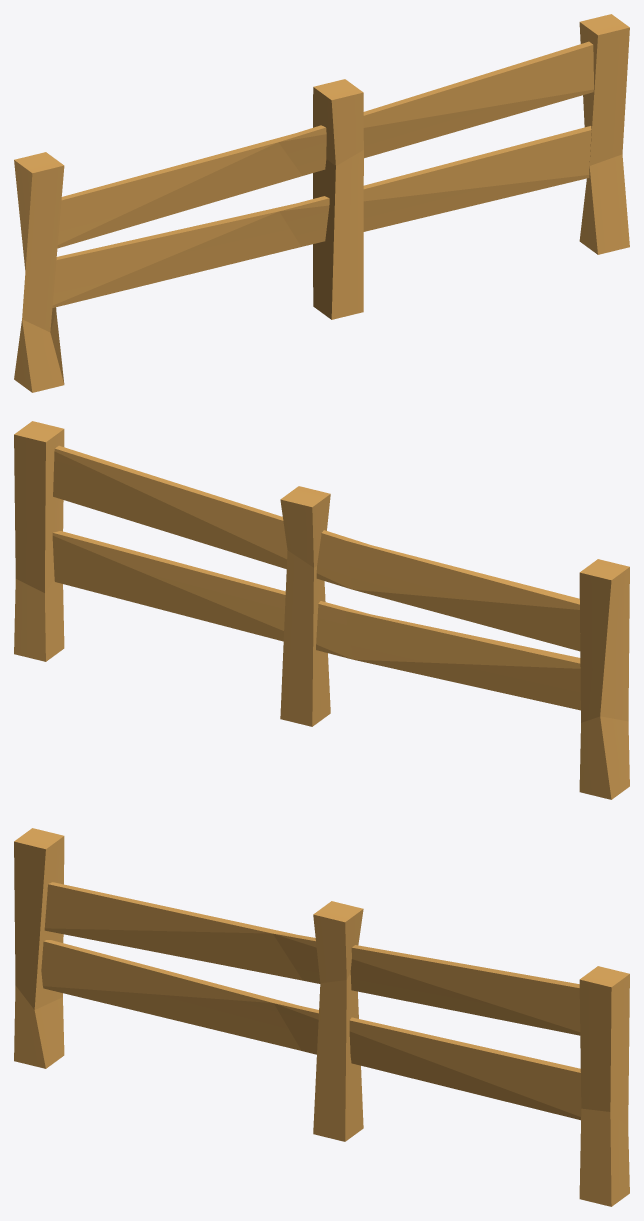
The model's file is Fence 2.fbx.
3 views of the same model, one above another, from view 1: azimuth 30°, elevation 25°; view 2: azimuth 150°, elevation 25°; view 3: azimuth 330°, elevation 25° (orthographic).
Parts seen in each view (by area): view 1: Fence 2; view 2: Fence 2; view 3: Fence 2.
Part boxes in pixels (x1,y1,x2,y2): Fence 2: (14, 14, 629, 392); Fence 2: (14, 421, 629, 799); Fence 2: (14, 828, 629, 1206).
Bounding box in the file's own units: 309 × 107 × 16.3.
